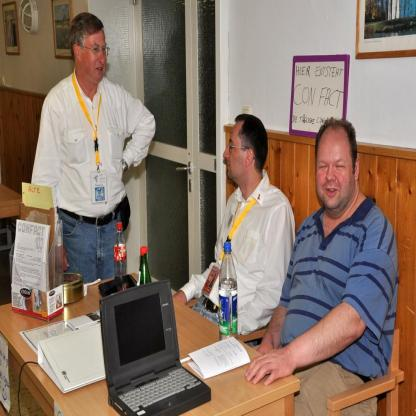board: (98, 284, 204, 410), (219, 239, 238, 337), (114, 223, 126, 276), (136, 245, 150, 286)
